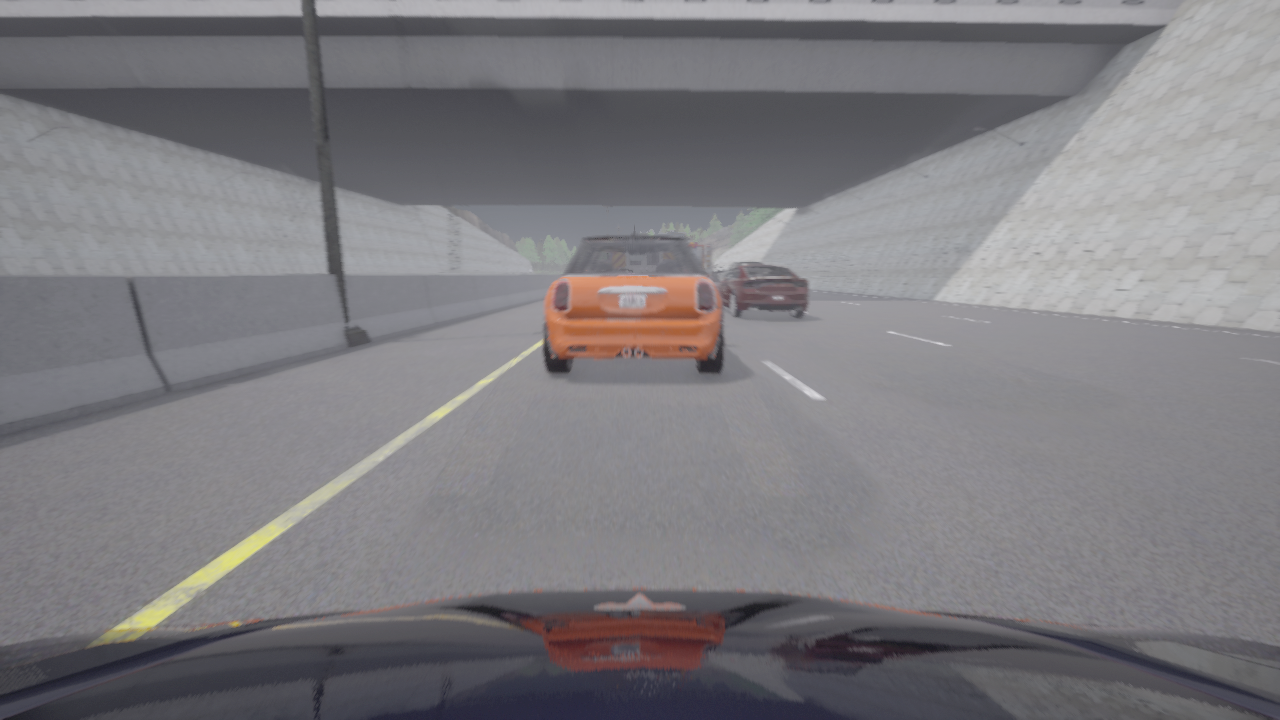cyclist: (0, 588, 1279, 719), (543, 225, 724, 373), (716, 262, 807, 317), (723, 261, 761, 277), (690, 243, 712, 264)
